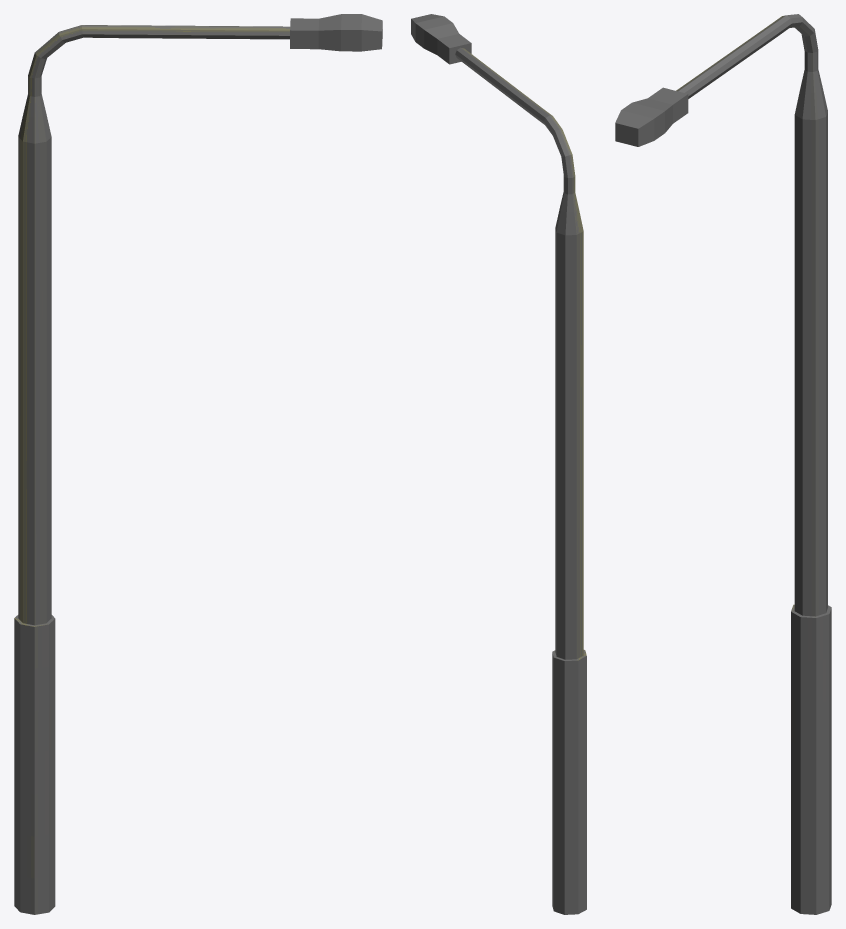
The model's file is streetlamp.fbx.
The picture shows the model from 3 angles, left to right: view 1: azimuth 30°, elevation 25°; view 2: azimuth 150°, elevation 25°; view 3: azimuth 270°, elevation 25°; orthographic projection. The views are drawn at different scales.
Visible parts, largest first — view 1: Cylinder.001; view 2: Cylinder.001; view 3: Cylinder.001.
Boxes of the visible parts, x1,y1,x2,y2 form: Cylinder.001: (14, 14, 382, 914); Cylinder.001: (411, 14, 586, 914); Cylinder.001: (615, 14, 831, 914).
Size of the model in its own units: 159 by 479 by 103.
Materials: 1 (1 with a texture image).
